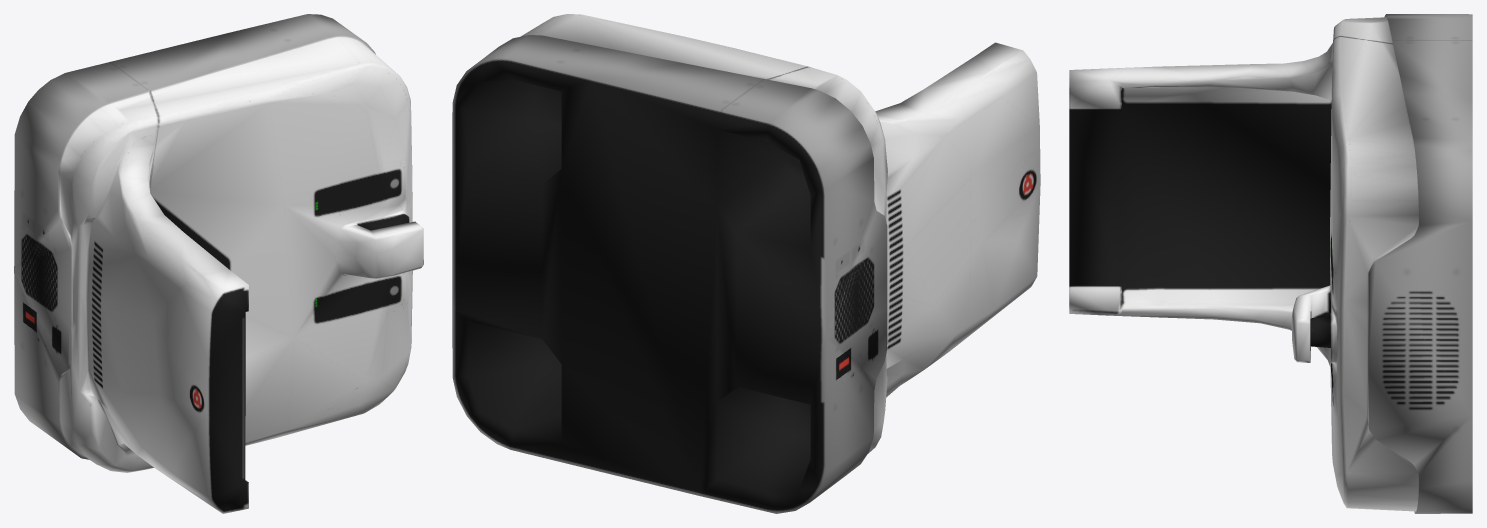
3 renders of one model, left to right at view 1: azimuth 30°, elevation 25°; view 2: azimuth 150°, elevation 25°; view 3: azimuth 270°, elevation 25°, orthographic. The views are drawn at different scales.
Visible parts, largest first — view 1: base2_M1K; view 2: base2_M1K; view 3: base2_M1K.
Part boxes in pixels (box(x1,y1,x2,y2)): base2_M1K: box(14, 14, 423, 513); base2_M1K: box(452, 14, 1040, 513); base2_M1K: box(1069, 14, 1472, 513).
Size of the model in its own units: 0.6694 by 0.6562 by 0.6668.
Materials: 1 (1 with a texture image).
